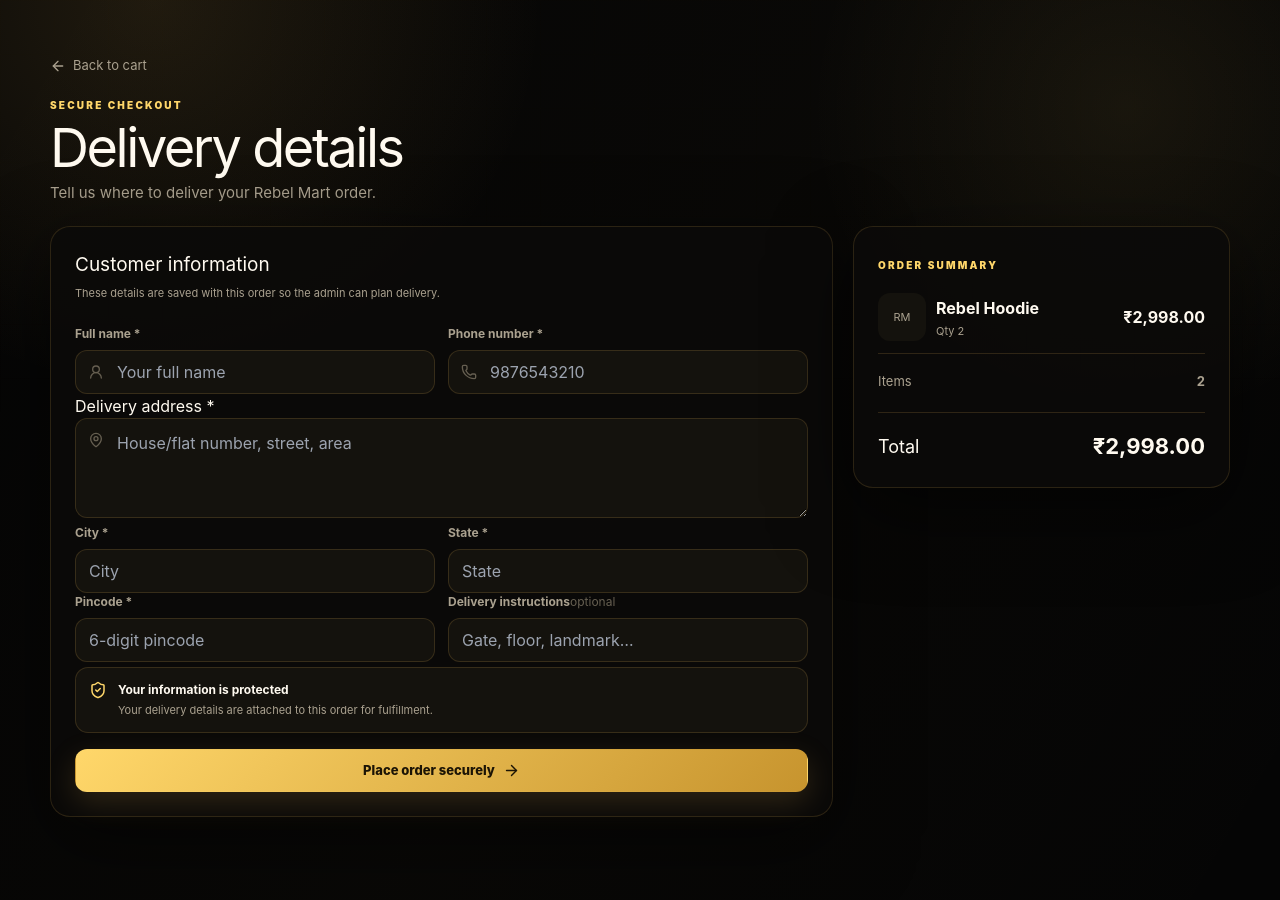
Test: Checkout with React Hook Form and Zod › blocks submission when required fields are invalid
Expected: the heading "Delivery details" is shown, 50,120 -> 403,175
Step 1. Click the button "Place order securely" → (442,771), box 75,749 -> 808,792
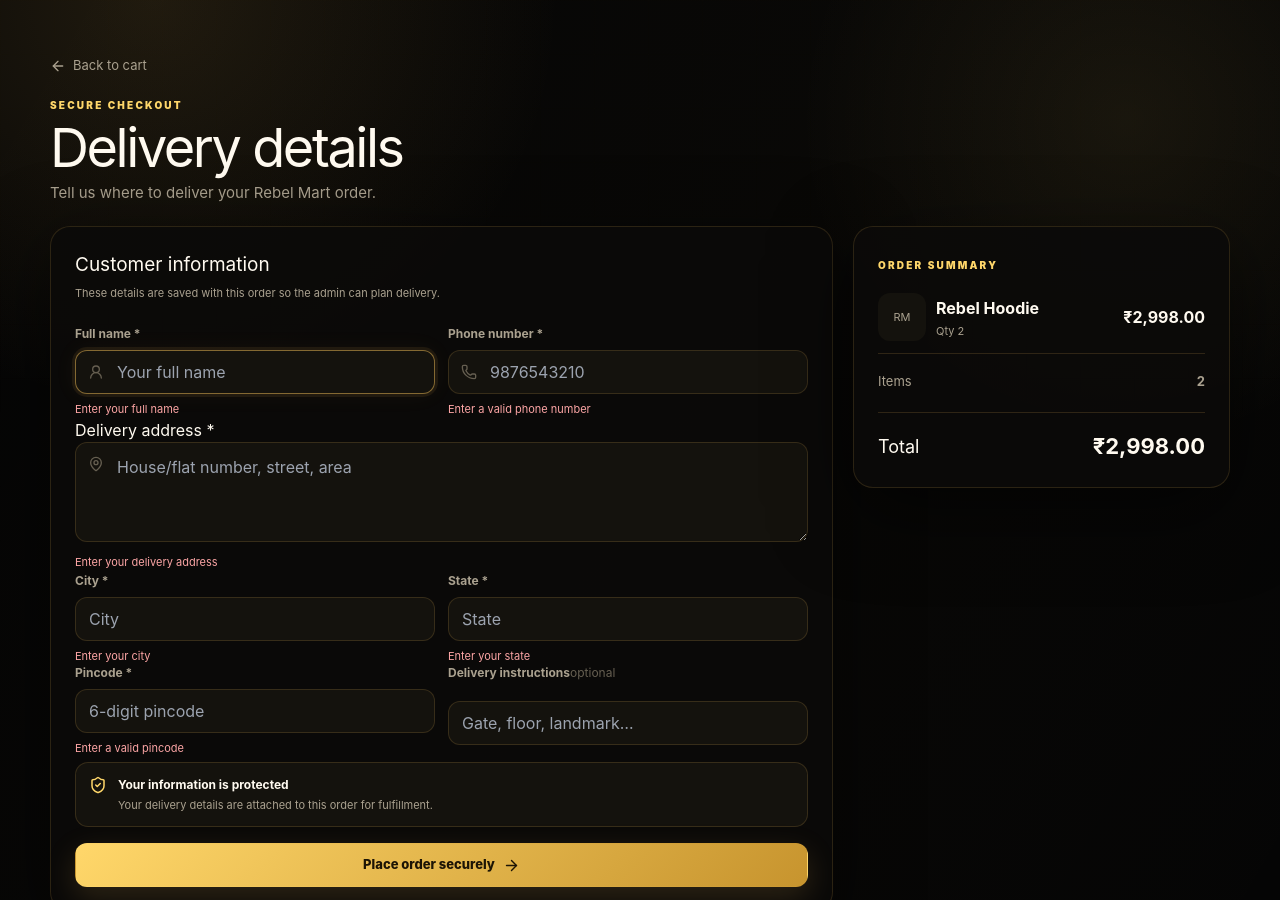
Result: the text "Enter your full name" is shown at 75,402 -> 179,416
